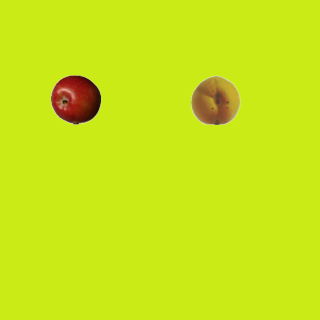Apple Braeburn: (50, 74, 100, 124)
Peach 2: (190, 74, 240, 124)
